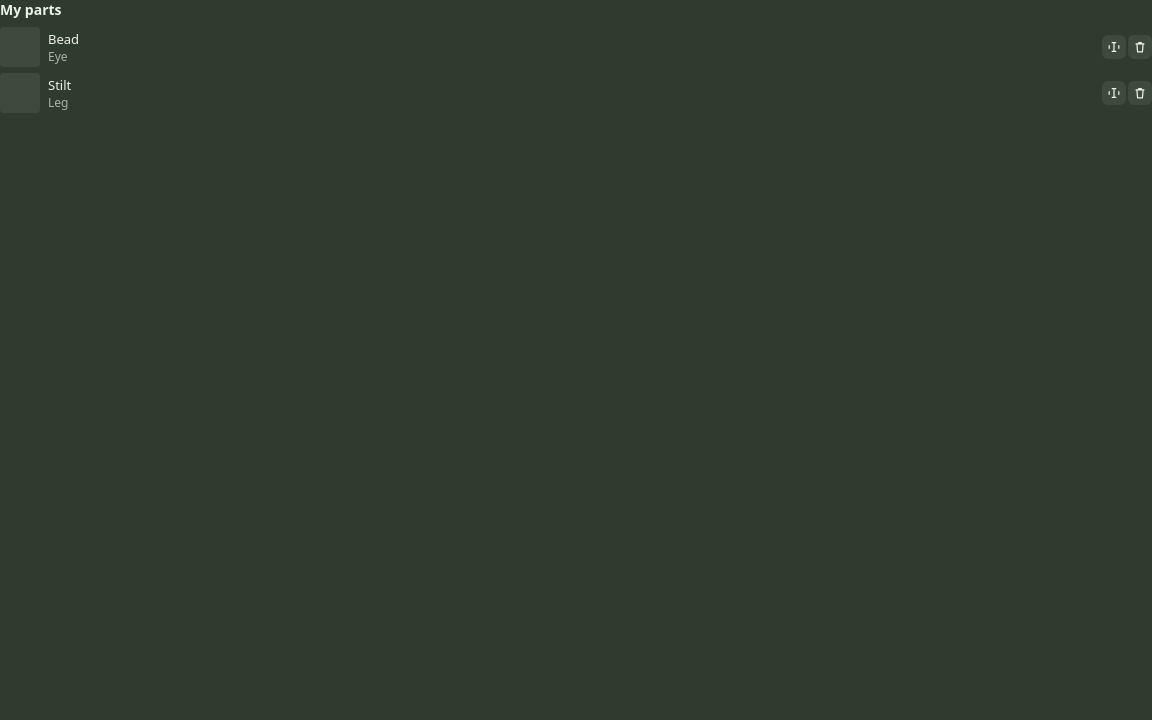
Test case: asks before deleting a part, and Cancel keeps it
The image size is (1152, 720).
Click the button named "Delete Stilt" at coordinates (1140, 93), box 1128,81 -> 1151,105
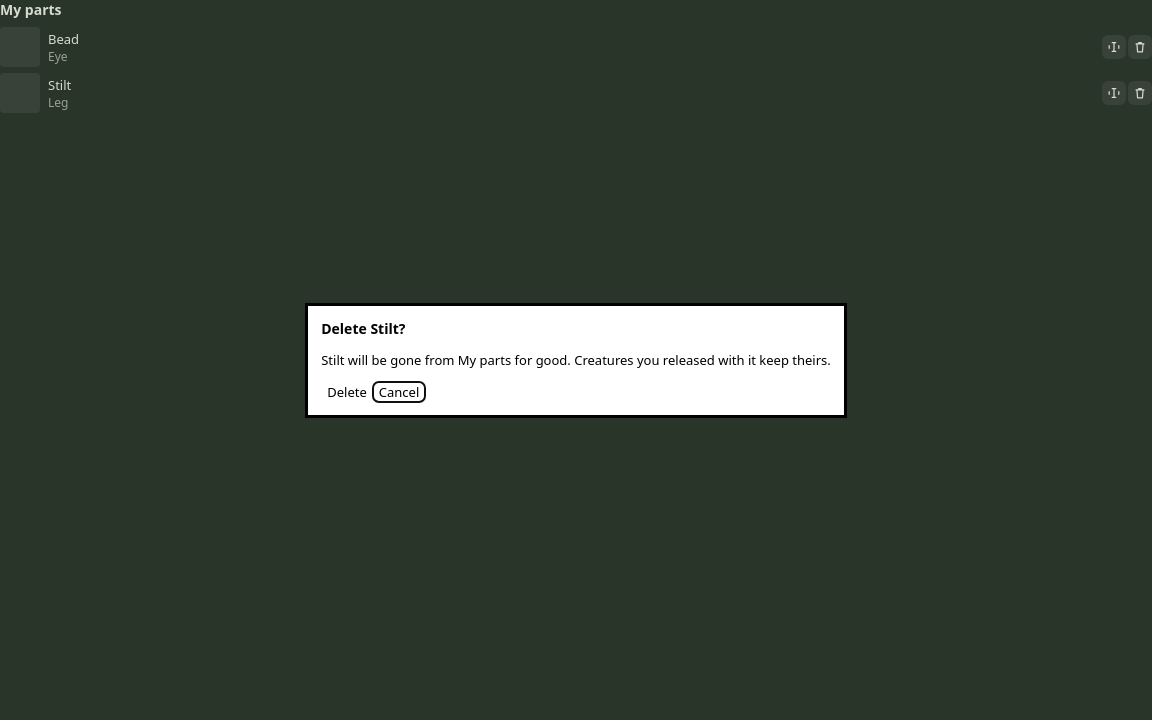
expect the heading "Delete Stilt?" is shown: met, box 321,318 -> 406,338
expect the button "Cancel" is shown: met
expect the text "Stilt will be gone from My parts for good. Creatures you released with it keep theirs." is shown: met, box 321,350 -> 831,368
Click the button "Cancel" at coordinates (399, 392), box 373,382 -> 425,402
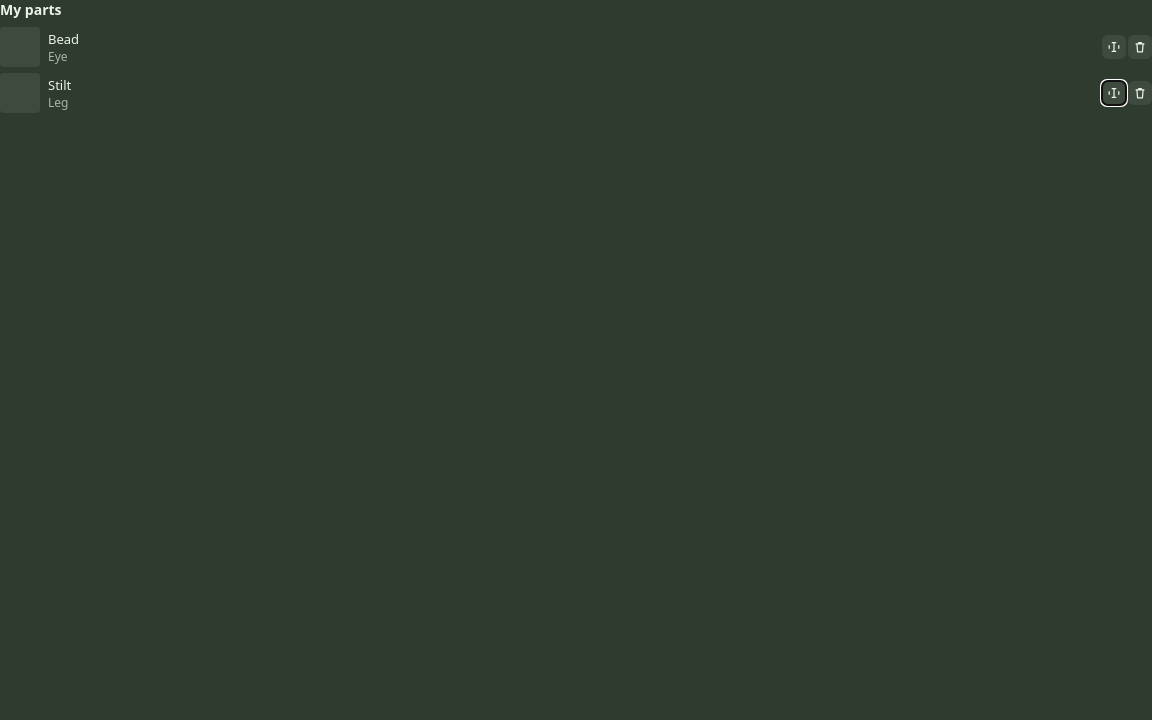
expect the dialog is gone: met
Click the button named "Delete Bead" at coordinates (1140, 47), box 1128,35 -> 1151,59
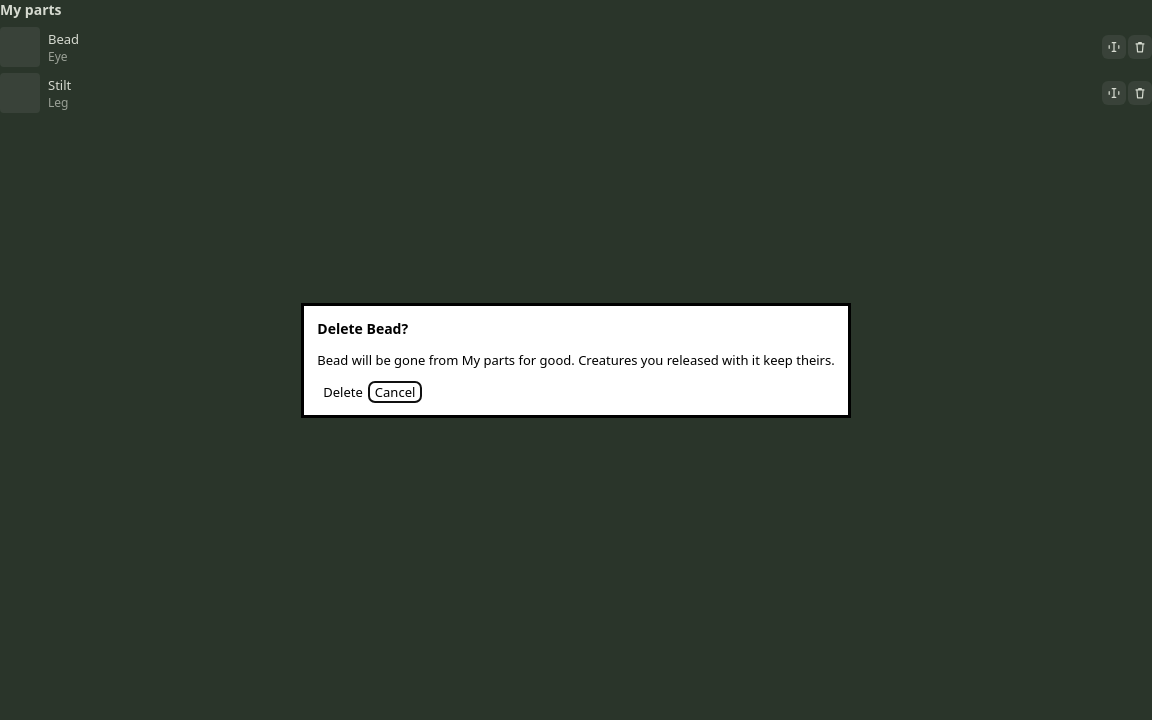
Click the button "Delete" at coordinates (343, 392), box 317,382 -> 369,402
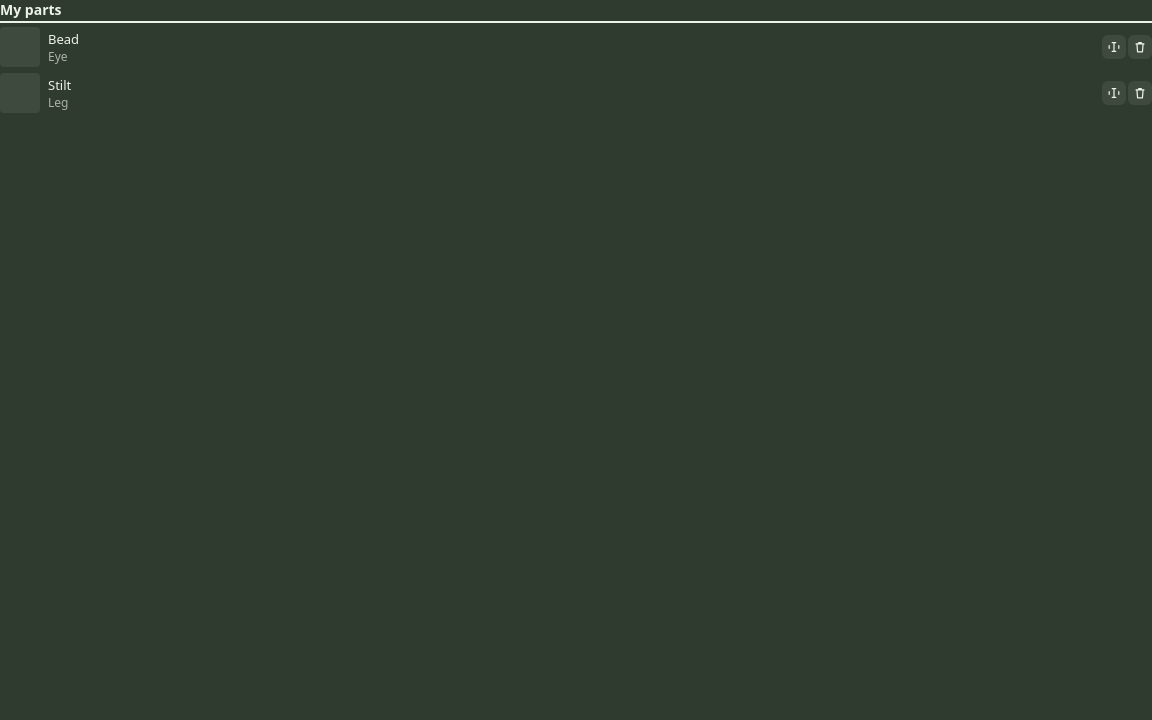
expect the heading "My parts" is shown: met, box 0,0 -> 62,19
expect the dialog is gone: met
